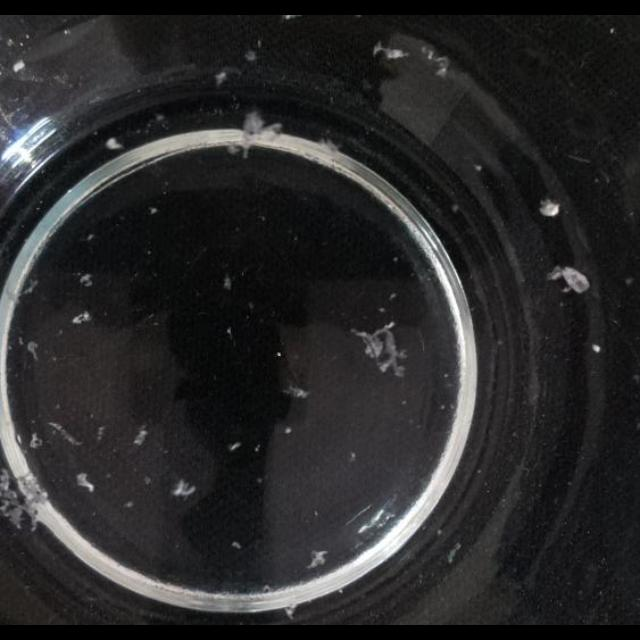Fibre: (352, 323, 410, 379), (0, 467, 46, 529), (238, 110, 280, 156), (550, 266, 590, 294), (416, 44, 450, 76), (373, 40, 407, 61), (318, 136, 344, 156), (172, 479, 196, 499), (282, 384, 310, 401), (306, 550, 328, 570), (539, 198, 561, 218), (76, 472, 96, 493), (20, 279, 40, 297), (132, 428, 150, 447), (72, 310, 92, 324), (26, 342, 40, 362), (214, 70, 230, 86), (105, 136, 123, 150), (30, 432, 42, 450), (80, 274, 94, 288), (283, 604, 297, 618), (245, 50, 258, 62), (222, 276, 232, 290)
microbeads: (12, 59, 26, 72), (229, 441, 241, 451), (591, 343, 601, 353), (230, 542, 242, 550), (226, 326, 234, 338), (348, 452, 356, 462), (143, 476, 151, 486), (148, 207, 158, 215), (388, 293, 398, 301), (124, 500, 134, 508), (254, 443, 262, 452), (283, 427, 291, 435), (609, 28, 615, 34)
